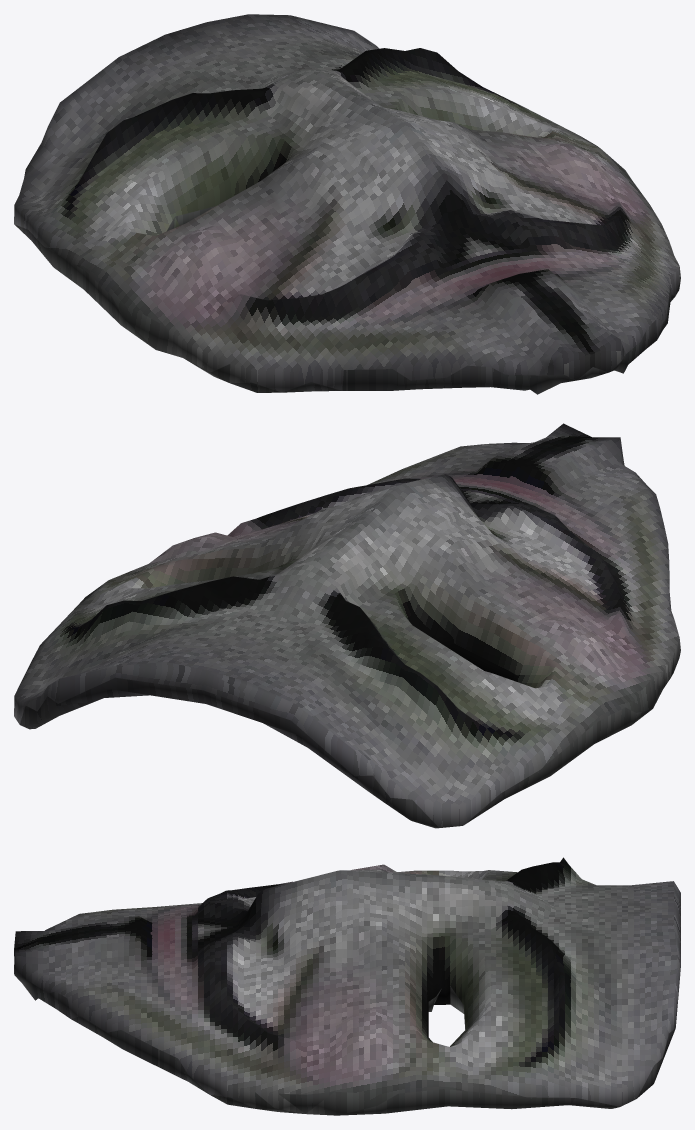
The model's file is mask_1.glb.
3 views of the same model, one above another, from view 1: azimuth 30°, elevation 25°; view 2: azimuth 150°, elevation 25°; view 3: azimuth 270°, elevation 25° (orthographic). The views are drawn at different scales.
Parts seen in each view (by area): view 1: mask_1; view 2: mask_1; view 3: mask_1.
Boxes of the visible parts, left/top/right/bottom form: mask_1: left=14, top=14, right=680, bottom=394; mask_1: left=14, top=423, right=680, bottom=828; mask_1: left=14, top=857, right=680, bottom=1115.
Size of the model in its own units: 0.2319 by 0.0743 by 0.3044.
1 material, 1 textured.
